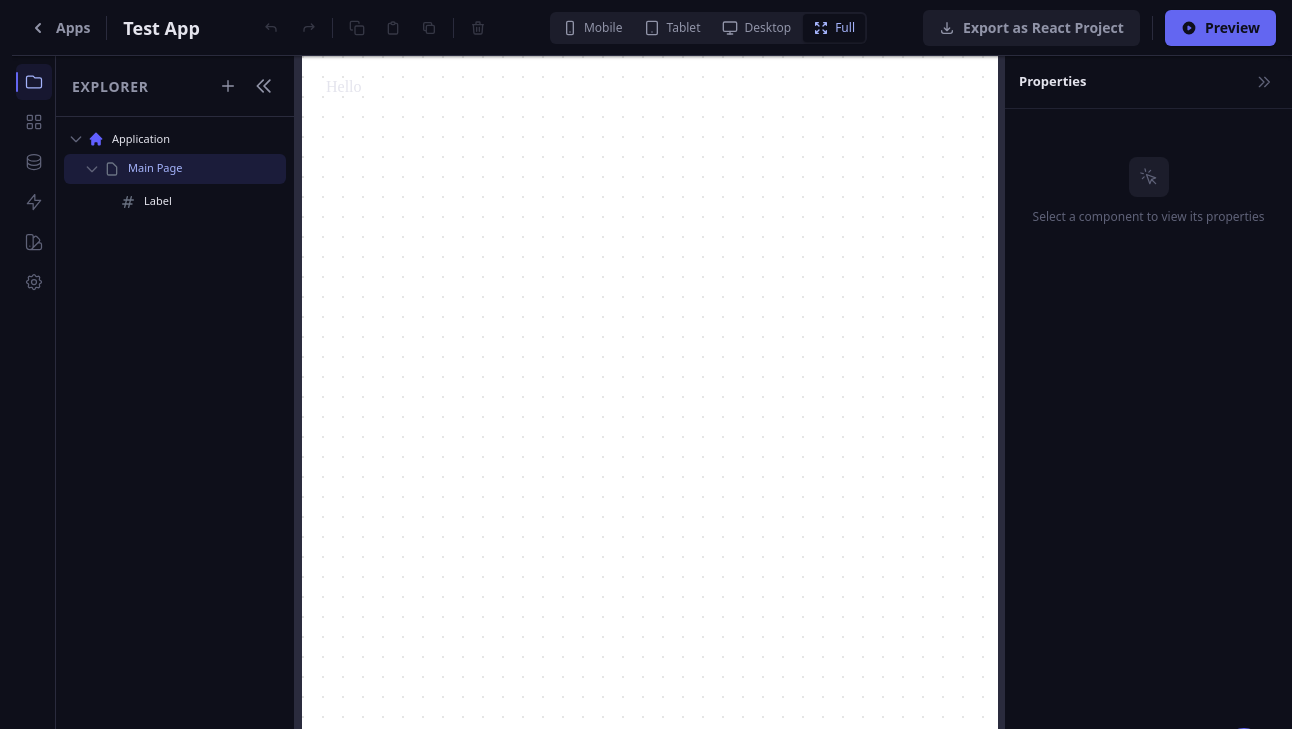
Test: Editor › should switch between left panel tabs
This screenshot has width=1292, height=729.
Expected: the heading "Test App" is shown, top-left (123, 14), bottom-right (200, 42)
Expected: the heading "Explorer" is shown, top-left (68, 76), bottom-right (153, 96)
Click the button named "Components" at x=34, y=122, box top-left (16, 104), bottom-right (52, 140)
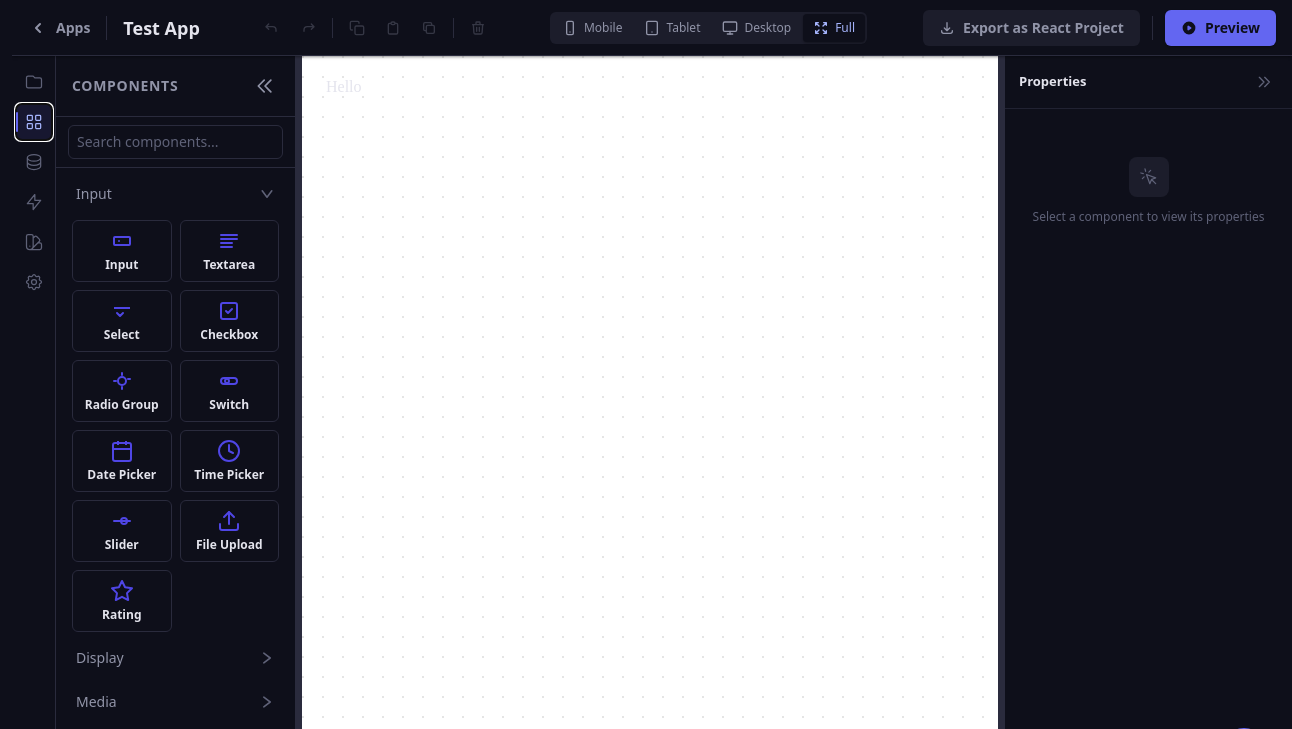
Expected: the heading "Components" is shown, top-left (68, 76), bottom-right (182, 96)
Expected: the heading "Explorer" is gone
Click the button named "State" at x=34, y=162, box top-left (16, 144), bottom-right (52, 180)
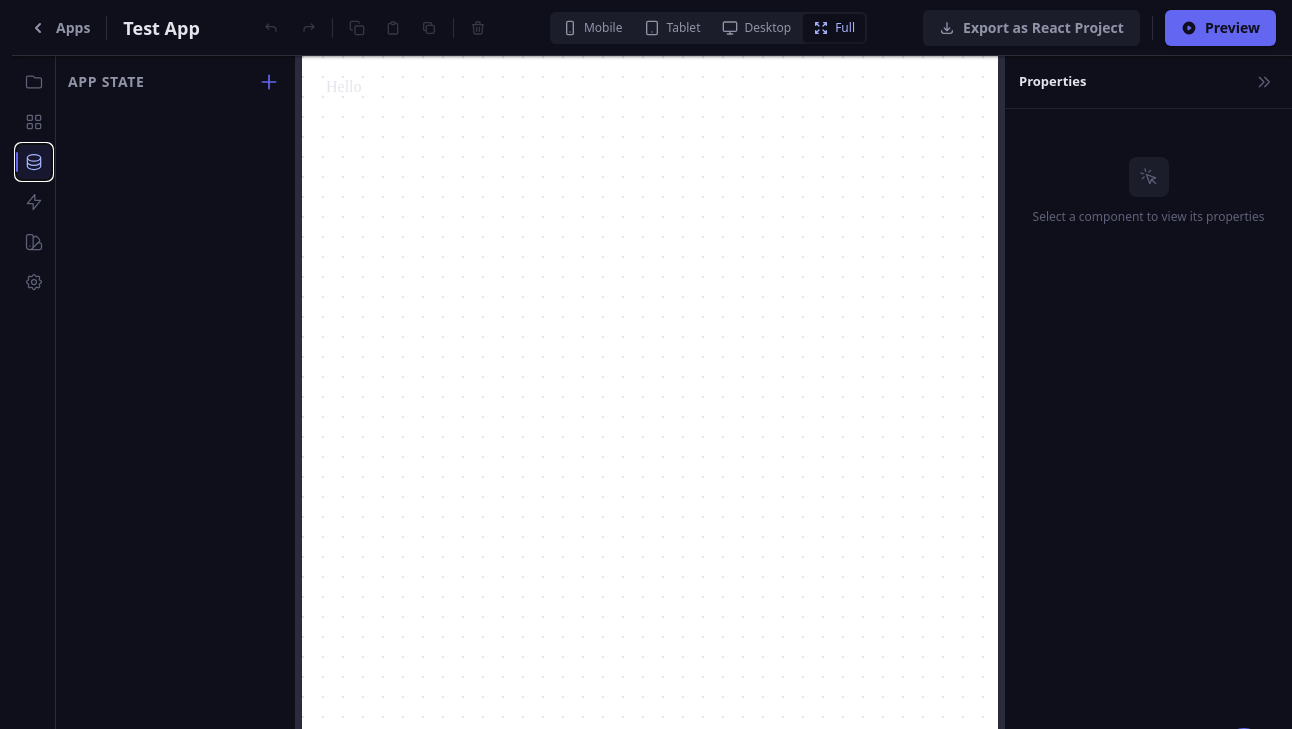
Expected: the heading "App State" is shown, top-left (68, 72), bottom-right (145, 92)
